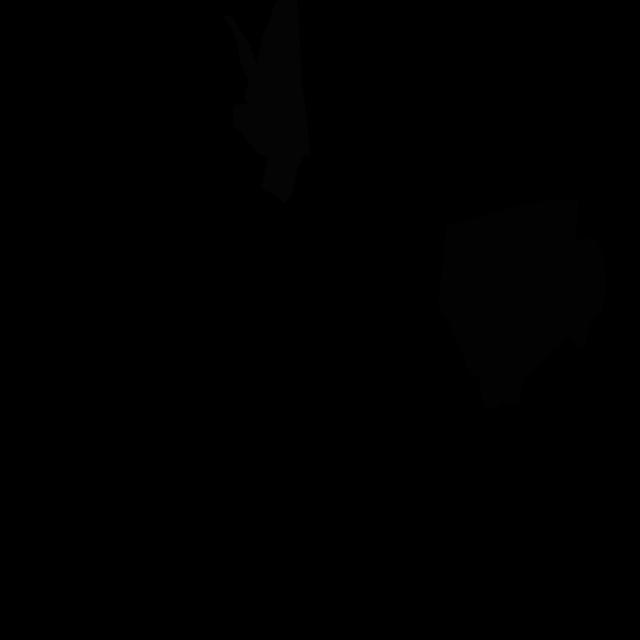cardboard: (437, 199, 606, 409)
soft_plastic: (223, 0, 311, 203)
